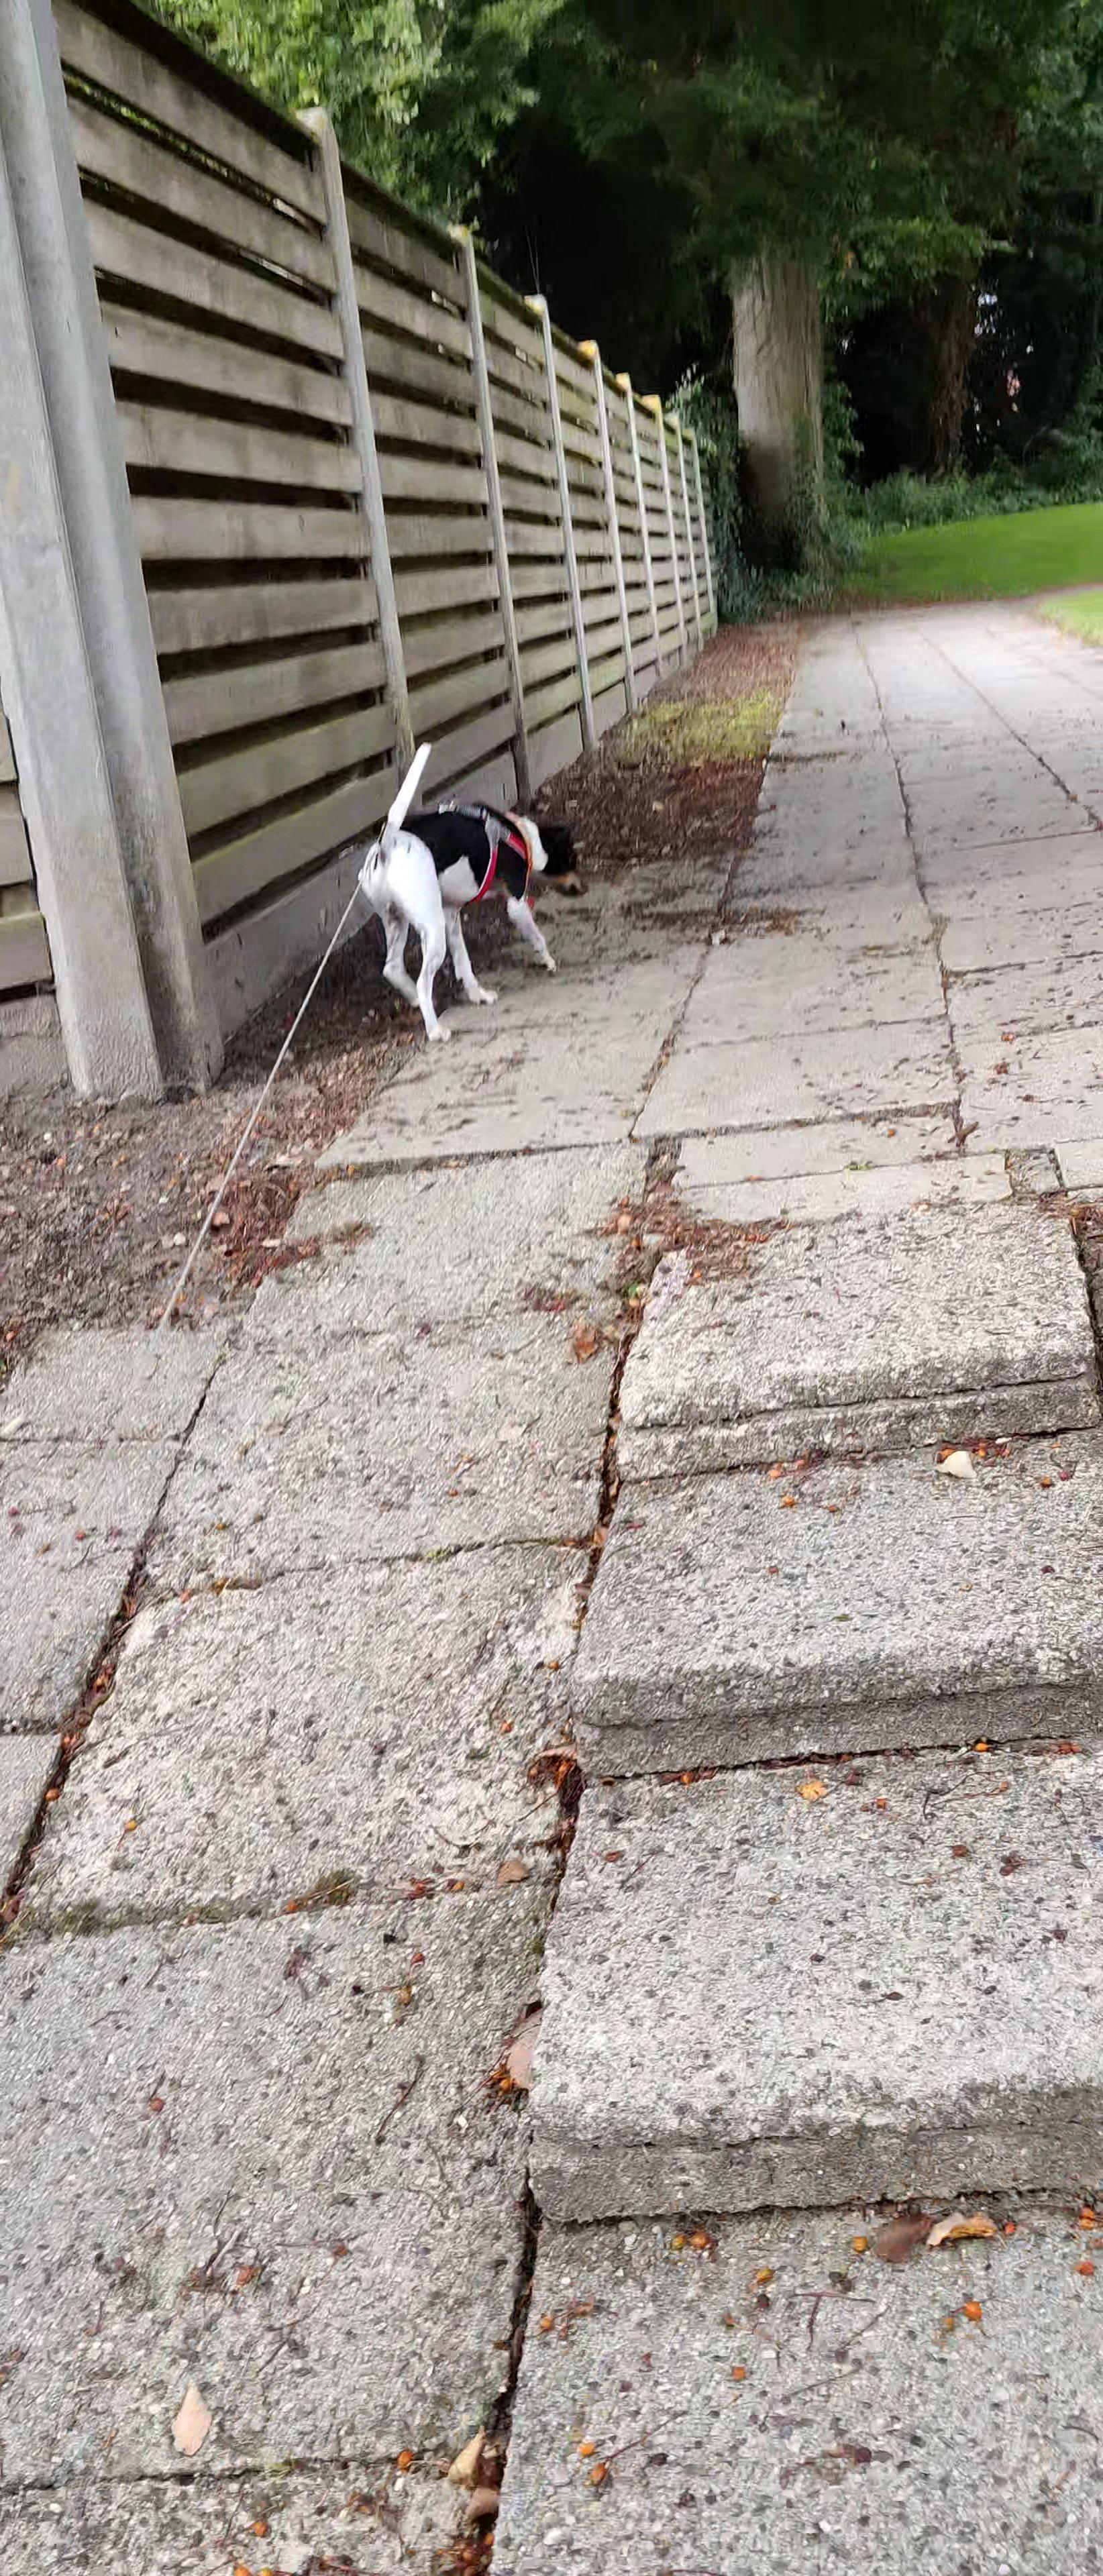Dog: (353, 738, 595, 1043)
